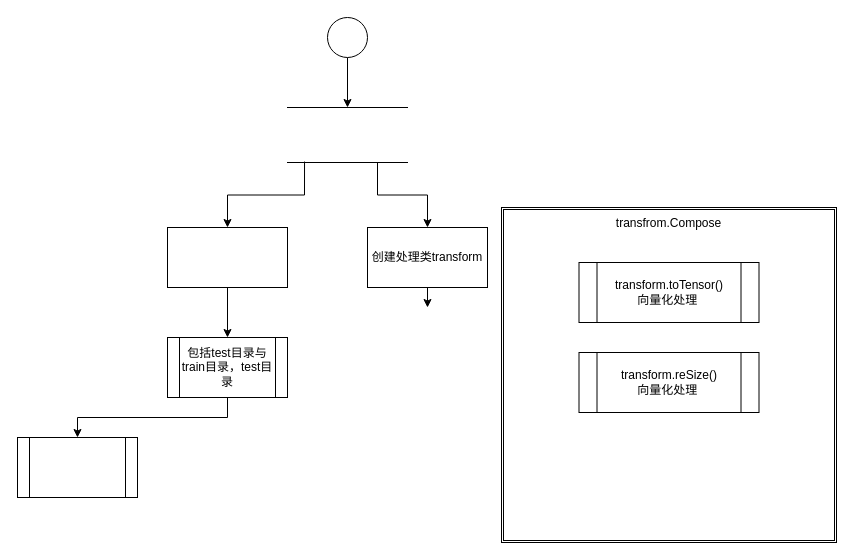
This 854x560 diagram has some shape labels left out. Here are the shapes that lost their labels. From the top down, the box of each, then its label:
(166, 226, 288, 288): 设置文件目录
(16, 436, 138, 498): 创建分类文件夹名称，作为label，例如/test/cat
